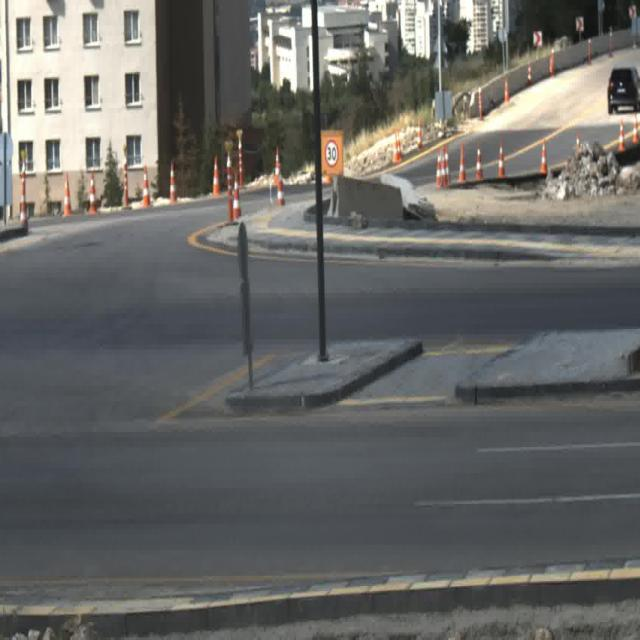Car: (607, 65, 639, 112)
